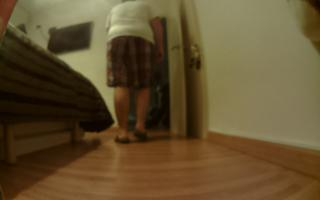person: (102, 1, 172, 146)
